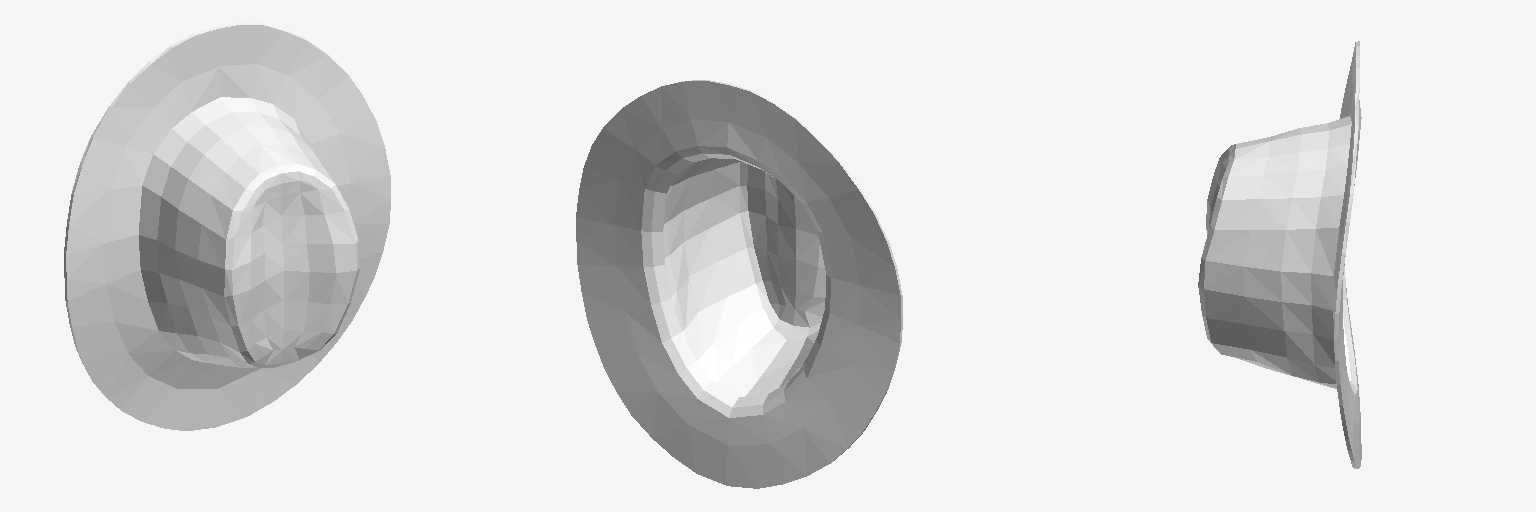
The model's file is Cowboy_Hat_obj.obj.
3 views of the same model, side by side, from view 1: azimuth 30°, elevation 25°; view 2: azimuth 150°, elevation 25°; view 3: azimuth 270°, elevation 25° (orthographic).
Parts seen in each view (by area): view 1: Cowboy_Hat; view 2: Cowboy_Hat; view 3: Cowboy_Hat.
Part boxes in pixels (bbox=[...]): Cowboy_Hat: bbox=[64, 22, 390, 430]; Cowboy_Hat: bbox=[576, 80, 902, 488]; Cowboy_Hat: bbox=[1198, 41, 1361, 468].
Bounding box in the file's own units: 11.41 × 13.44 × 4.98.